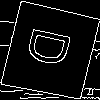D: (25, 25, 82, 71)
